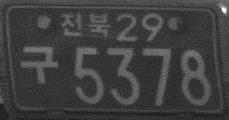2: (115, 12, 138, 42)
3: (105, 47, 141, 105)
5: (72, 45, 104, 105)
7: (141, 46, 174, 107)
8: (179, 49, 213, 106)
9: (141, 13, 164, 42)
구: (18, 43, 59, 85)
전북_O: (60, 12, 109, 38)
